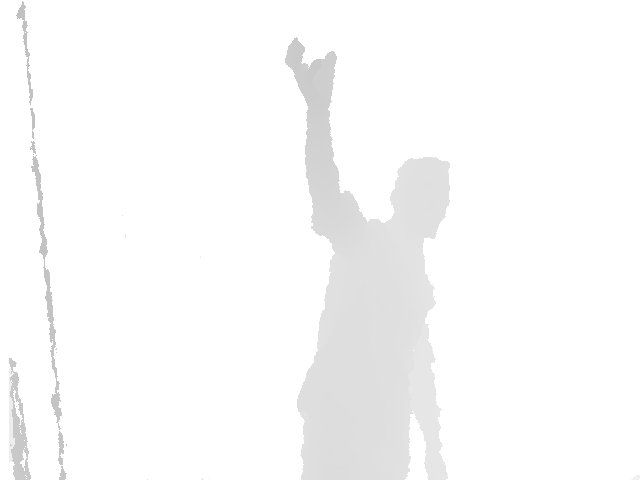hand: (285, 37, 338, 116)
hand_down: (423, 446, 450, 480)
head: (389, 156, 451, 240)
person: (283, 38, 452, 480)
